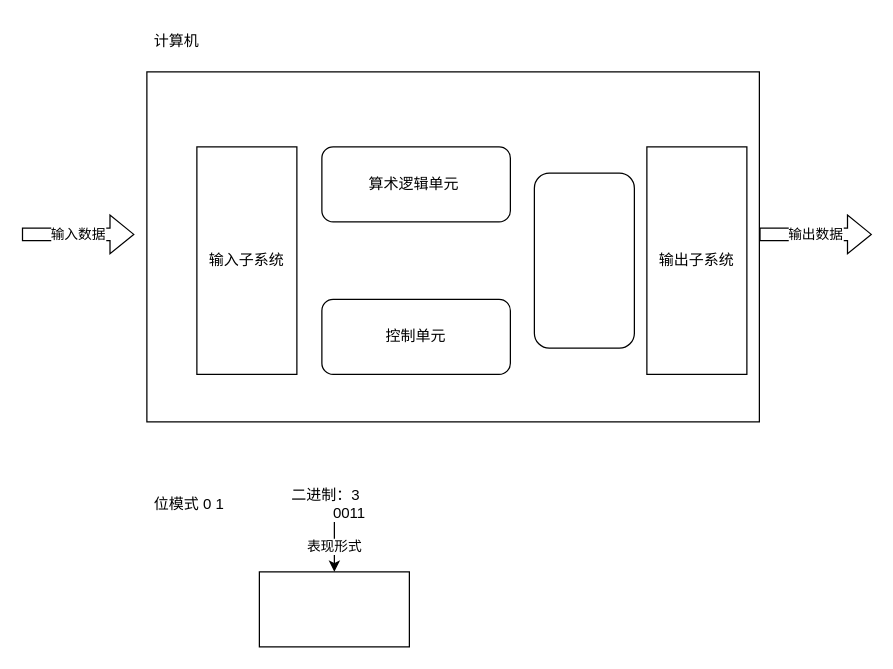
This 893x669 diagram has some shape labels left out. The centre of each missing label's shape, as x and y in pixels:
"存储器" goes at pixel 583 260.
"电子信号 关关开开" goes at pixel 333 609.
